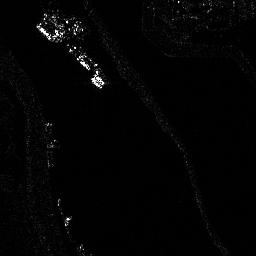ship: (34, 22, 65, 44)
